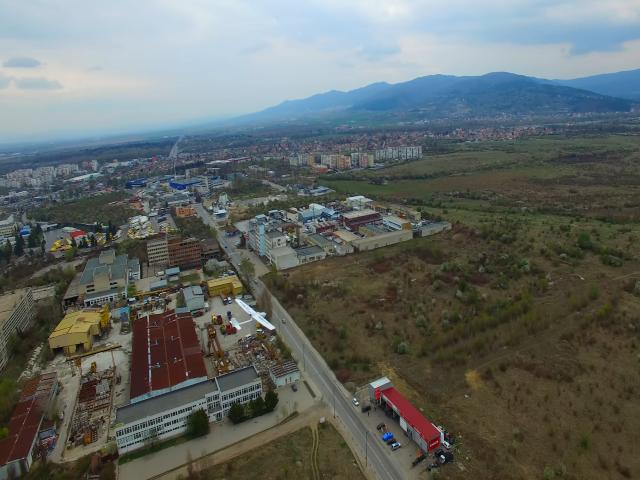plane: (229, 299, 275, 334)
